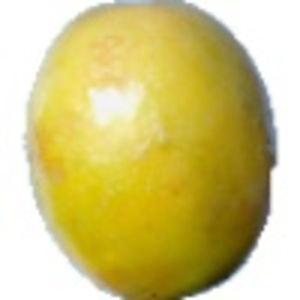maracujá: (23, 1, 280, 300)
